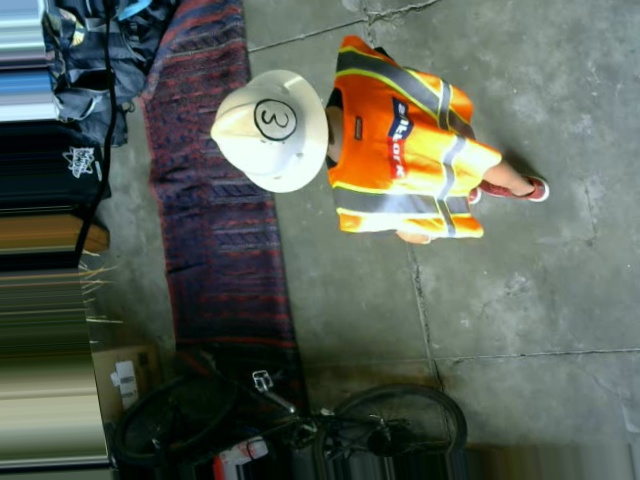three: (249, 98, 299, 143)
